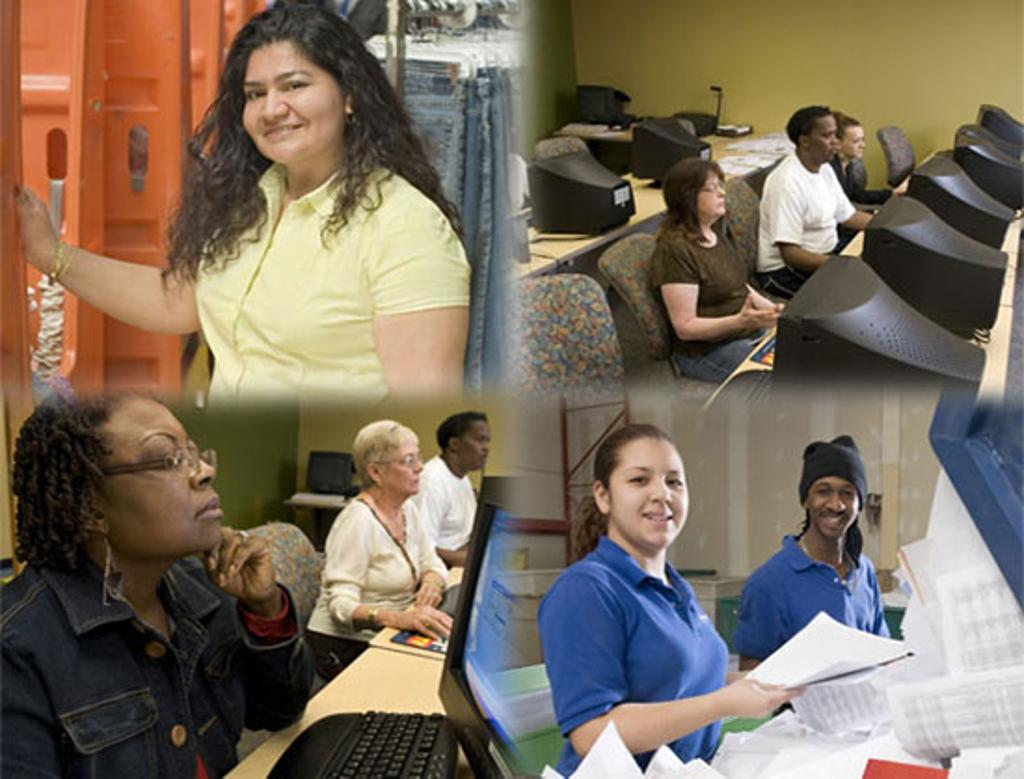face: (109, 398, 224, 548), (242, 38, 341, 161), (610, 437, 688, 544), (810, 475, 858, 538), (384, 439, 422, 493), (460, 419, 490, 468), (810, 115, 838, 160), (697, 173, 726, 213), (844, 126, 865, 158)
